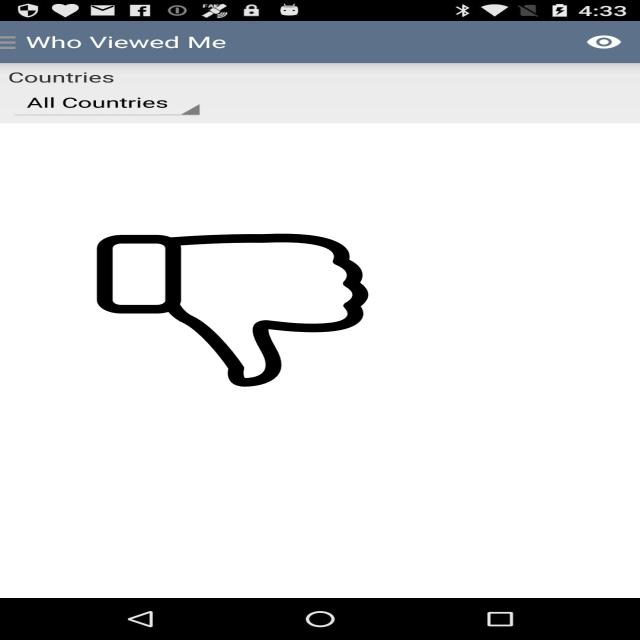obstruction: (93, 234, 372, 386)
